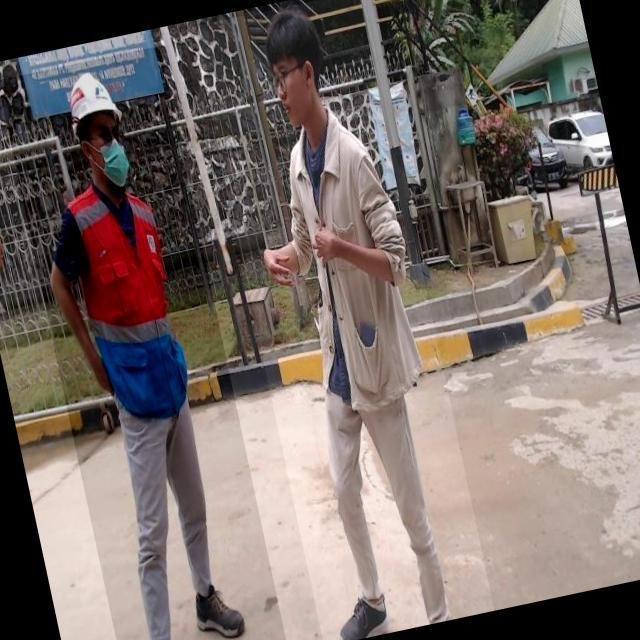Helmet: (60, 67, 126, 140)
Person: (260, 0, 468, 640), (34, 49, 259, 640)
Safety Boot: (190, 579, 249, 640), (328, 589, 393, 640)
Safety Vest: (61, 170, 197, 425)
bare-arms: (263, 232, 301, 293), (83, 349, 124, 405), (310, 218, 343, 273)
no-helmet: (263, 9, 330, 66)
